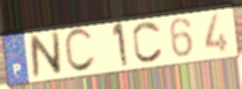1: (111, 20, 130, 70)
4: (202, 10, 230, 54)
6: (168, 16, 196, 59)
C: (63, 26, 98, 75), (131, 19, 165, 64)
N: (28, 30, 64, 80)
